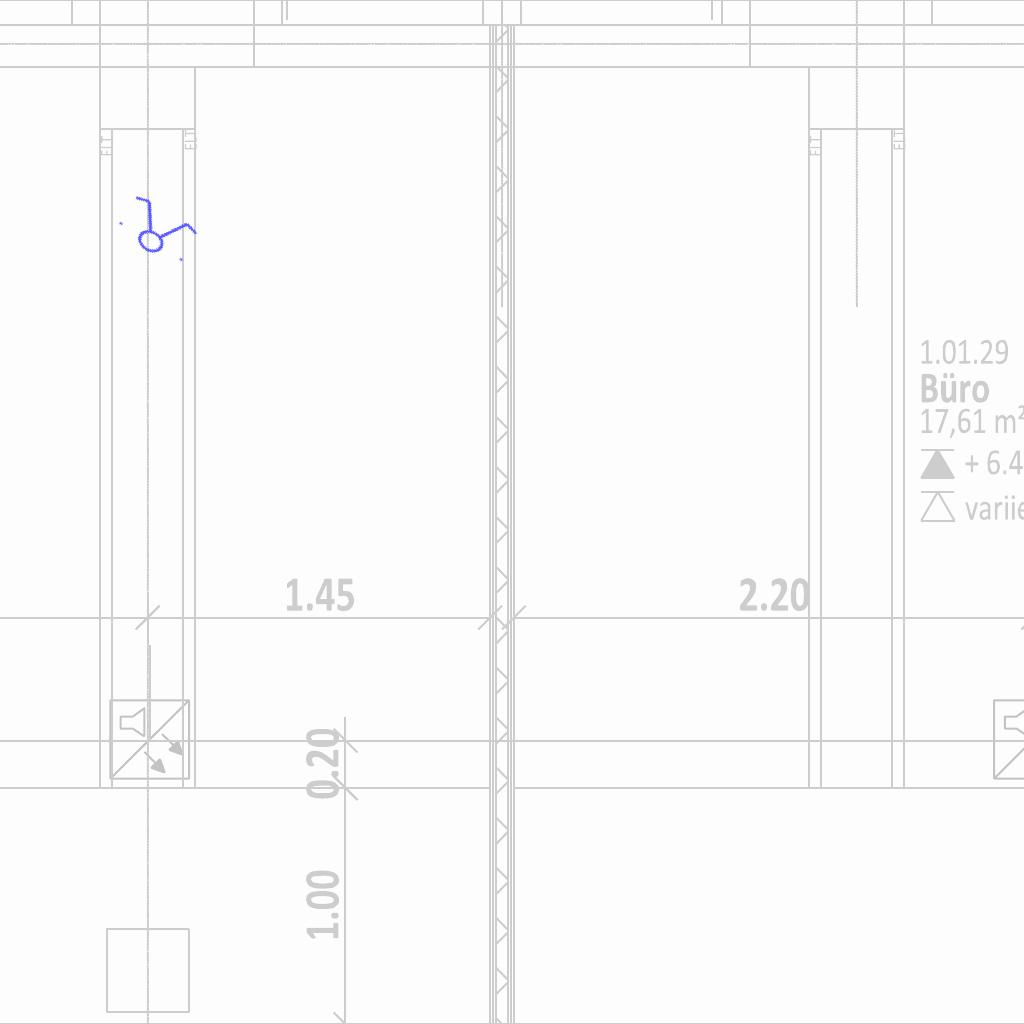Serienschalter: (108, 187, 206, 273)
